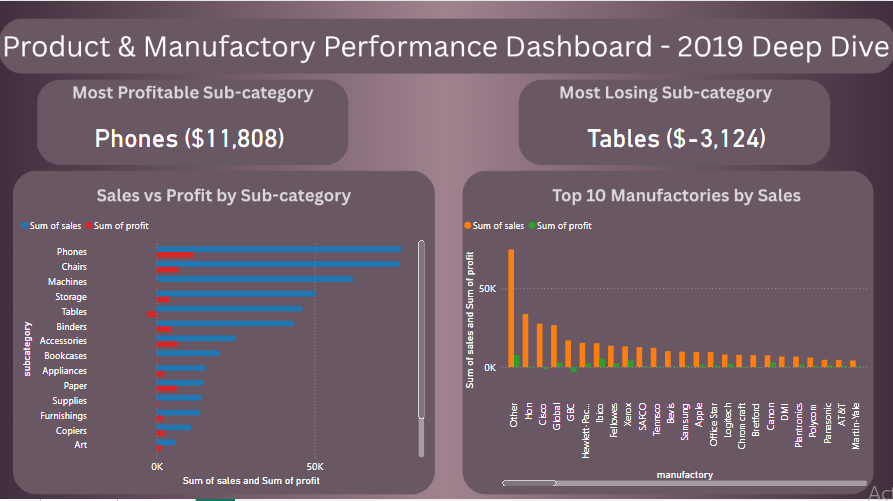

What the dashboard file says about the page in this screenshot:
{"tool":"powerbi","page":{"name":"page 2","canvas":[1280,720],"ordinal":1},"visuals":[{"type":"card","fields":{"Values":["superstore_2019_cleaned.Top Sub Profit Name"]},"box":[121.9,96.4,300.5,214],"z":0},{"type":"card","fields":{"Values":["superstore_2019_cleaned.Most Losing KPI"]},"box":[817.8,96.4,300.5,214],"z":1000},{"type":"clusteredBarChart","fields":{"Category":["superstore_2019_cleaned.subcategory"],"Y":["Sum(superstore_2019_cleaned.sales)","Sum(superstore_2019_cleaned.profit)"]},"box":[25.5,300.5,586.8,398.3],"z":2000},{"type":"clusteredColumnChart","fields":{"Category":["superstore_2019_cleaned.manufactory"],"Y":["Sum(superstore_2019_cleaned.sales)","Sum(superstore_2019_cleaned.profit)"]},"box":[659.1,300.5,586.8,398.3],"z":3000}]}

Visuals, with their boxes in screenshot pixels (x1, y1, x2, y2), scaled from the page's 1280x720 canvas onto the 893x501 screenshot:
card - superstore_2019_cleaned.Top Sub Profit Name: <bbox>85, 67, 295, 216</bbox>
card - superstore_2019_cleaned.Most Losing KPI: <bbox>571, 67, 780, 216</bbox>
clusteredBarChart - superstore_2019_cleaned.subcategory x Sum(superstore_2019_cleaned.sales): <bbox>18, 209, 427, 486</bbox>
clusteredColumnChart - superstore_2019_cleaned.manufactory x Sum(superstore_2019_cleaned.sales): <bbox>460, 209, 869, 486</bbox>
